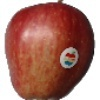apple: (4, 2, 96, 100)
